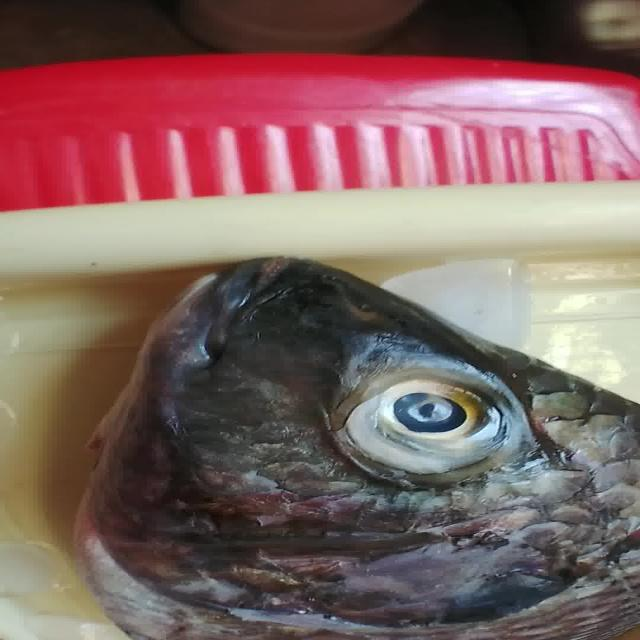Fresh: (308, 355, 537, 481)
